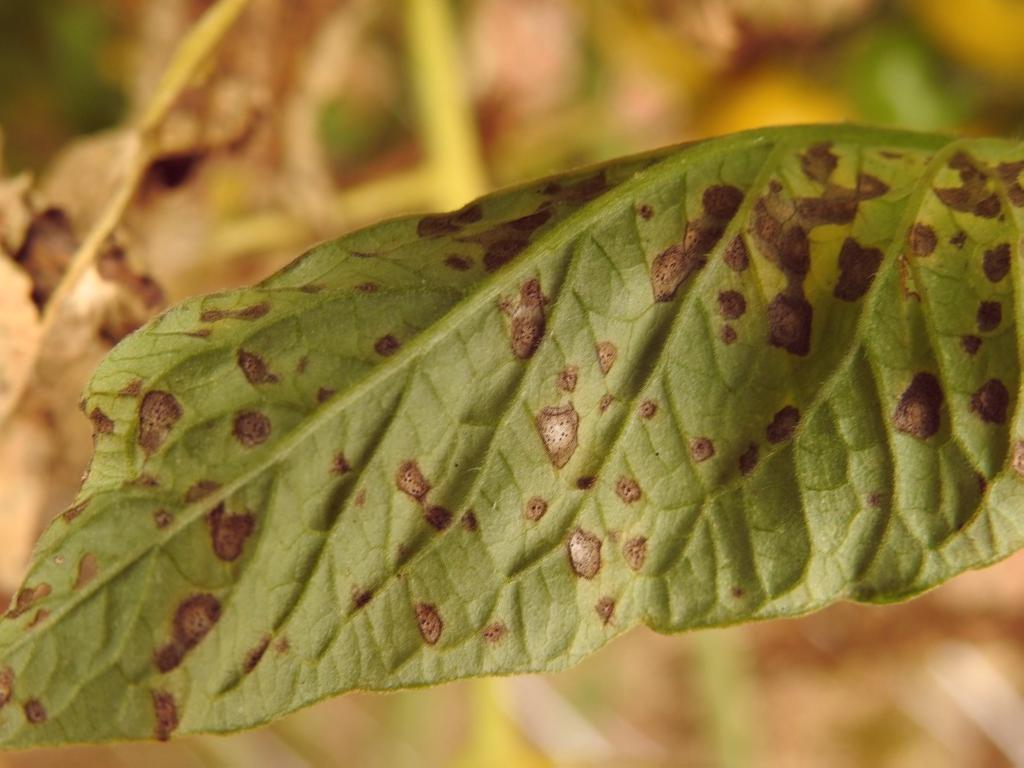Tomato Septoria leaf spot: (10, 86, 1022, 748)
